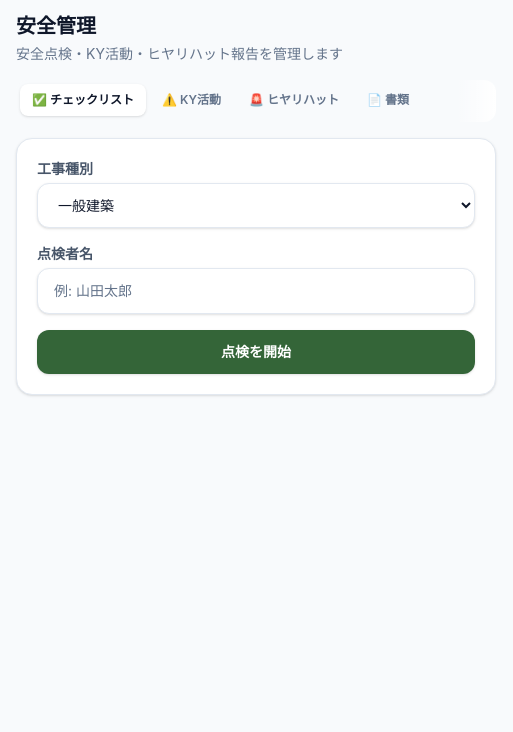
it: SafetyInspectionPage accessibility › ヒヤリハット tab — 場所 and 内容 fields have accessible labels
The width and height of the screenshot is (513, 732).
Click the button "🚨 ヒヤリハット".
click(294, 100)  # box x1=237 y1=84 x2=351 y2=116
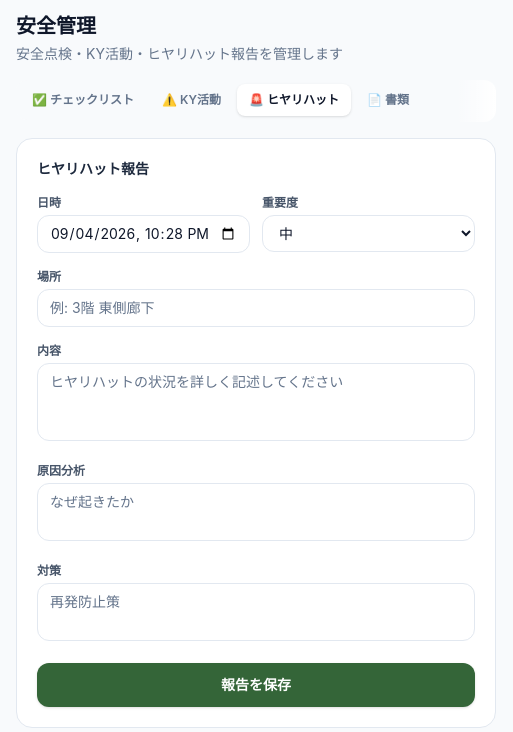
Expected: the field labelled "場所" is shown, x1=37 y1=289 x2=475 y2=327
Expected: the text box labelled "内容" is shown, x1=37 y1=363 x2=475 y2=441
